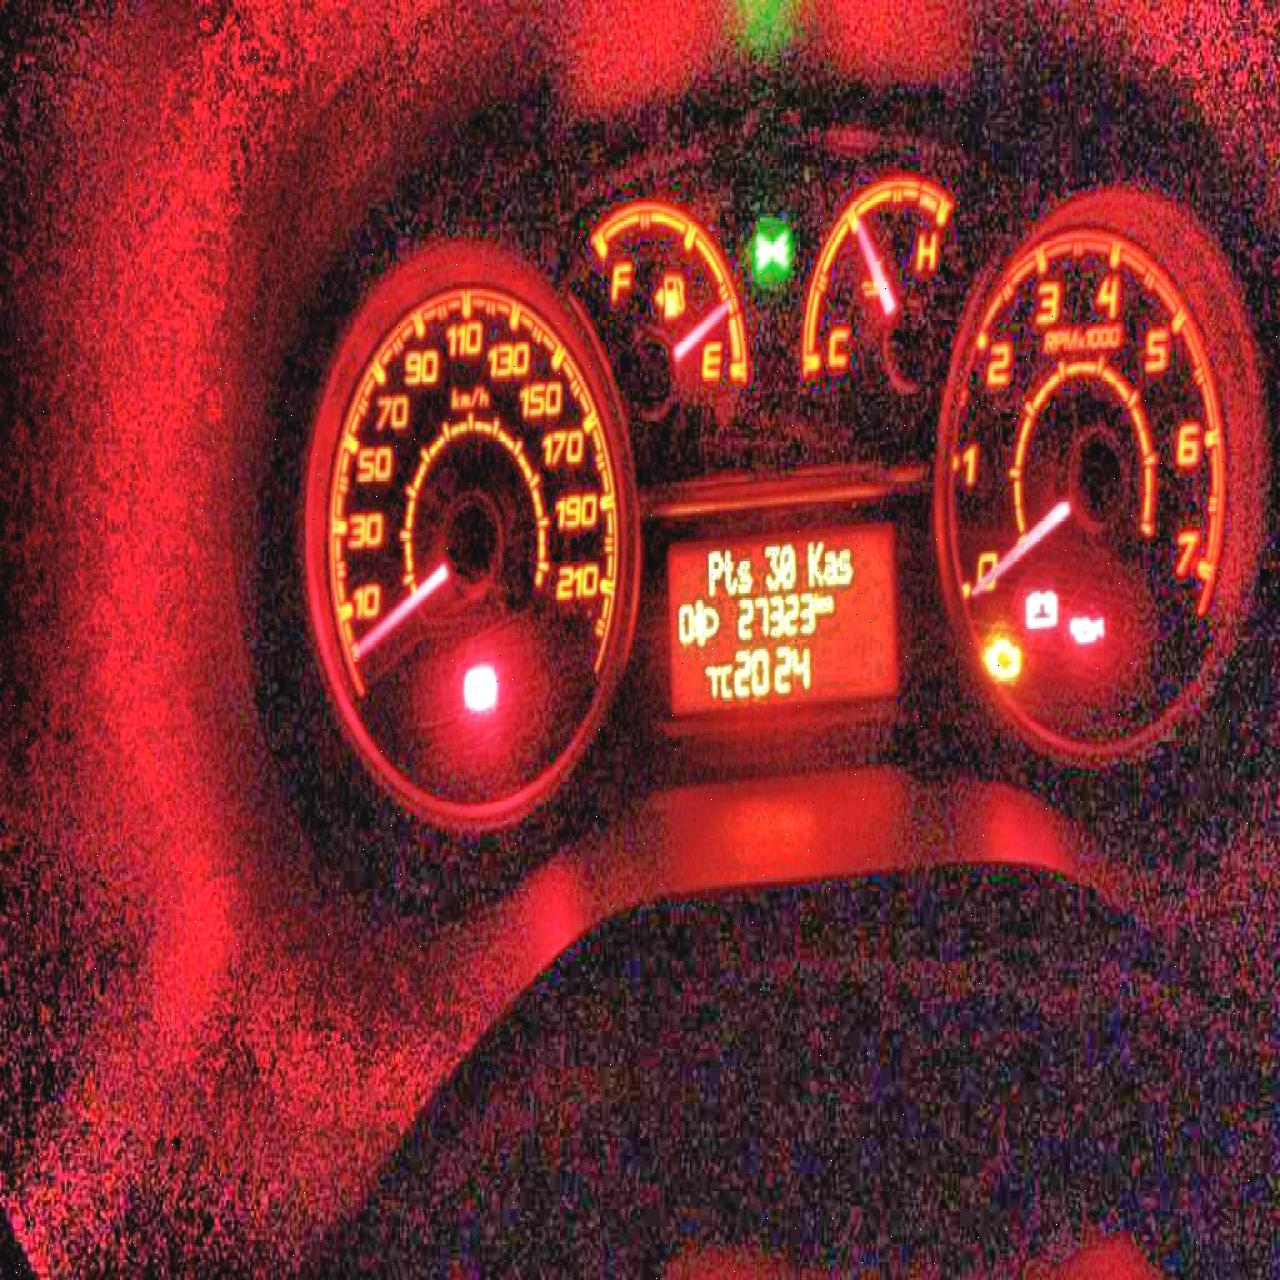0: (750, 647, 769, 695), (779, 540, 796, 588), (678, 600, 694, 642)
2: (774, 645, 791, 694), (733, 647, 749, 697), (736, 595, 753, 640), (783, 588, 798, 635)
3: (762, 543, 779, 588), (799, 588, 815, 633), (769, 591, 783, 635)
4: (792, 645, 810, 689)
7: (754, 591, 769, 635), (703, 662, 716, 697)
X: (806, 538, 823, 586), (722, 545, 737, 593), (707, 546, 722, 593), (737, 553, 753, 595), (838, 545, 852, 585), (824, 546, 838, 585), (720, 660, 733, 700), (823, 591, 833, 613), (812, 591, 823, 611)
odometer: (662, 524, 905, 720)
